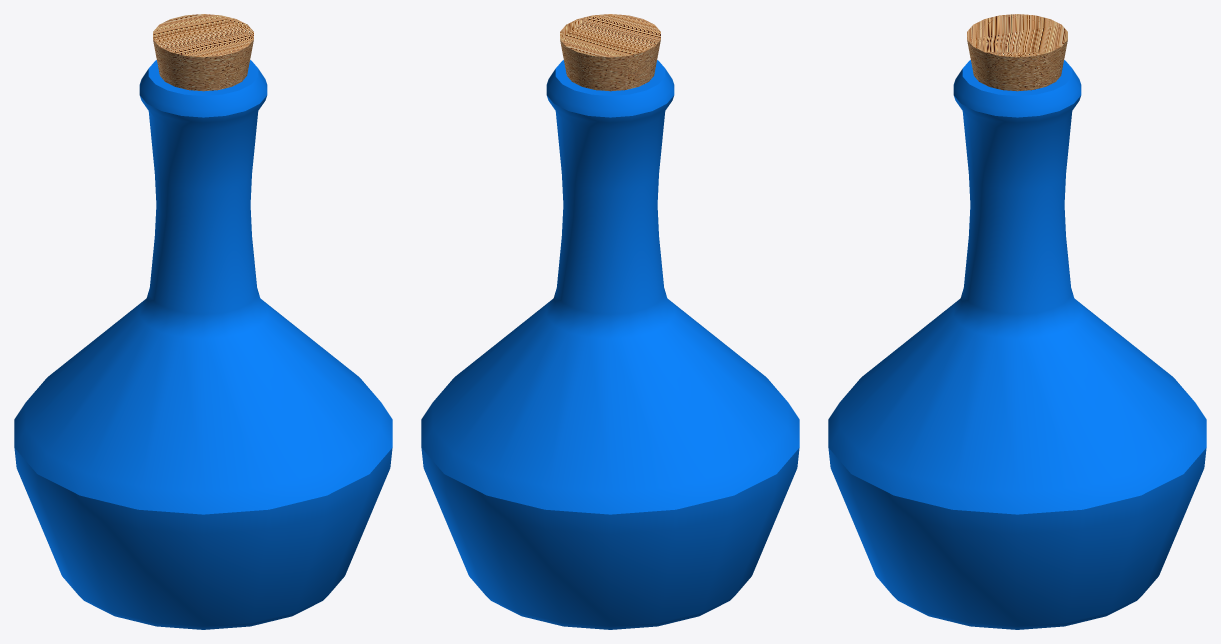
Rendered from potion1.fbx.
3 renders of one model, left to right at view 1: azimuth 30°, elevation 25°; view 2: azimuth 150°, elevation 25°; view 3: azimuth 270°, elevation 25°, orthographic.
Parts seen in each view (by area): view 1: Cylinder001, w; view 2: Cylinder001, w; view 3: Cylinder001, w.
Boxes of the visible parts, x1,y1,x2,y2 form: Cylinder001: (14,60,392,629); w: (153,14,253,91); Cylinder001: (421,60,799,629); w: (560,14,660,91); Cylinder001: (828,60,1206,629); w: (967,14,1067,91).
Bounding box in the file's own units: 148 × 228 × 146.
2 materials, 2 textured.
